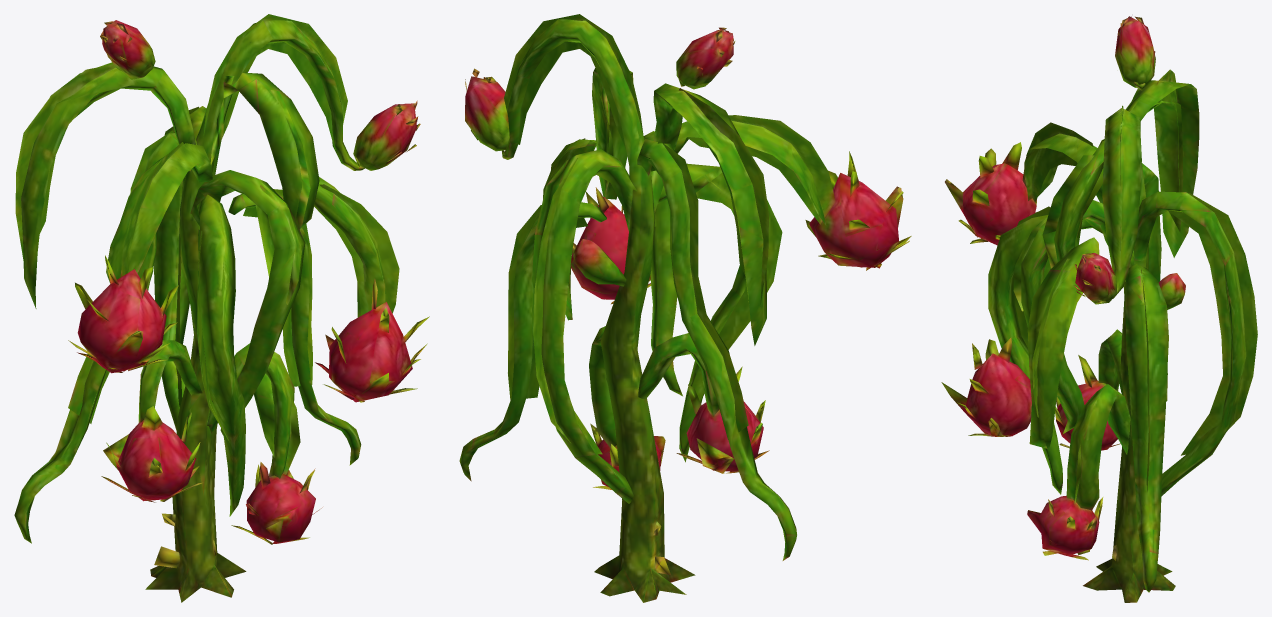
The model's file is dragonfruit.glb.
3 views of the same model, side by side, from view 1: azimuth 30°, elevation 25°; view 2: azimuth 150°, elevation 25°; view 3: azimuth 270°, elevation 25° (orthographic). The views are drawn at different scales.
Size of the model in its own units: 0.7227 by 1 by 0.543.
1 material, 1 textured.
